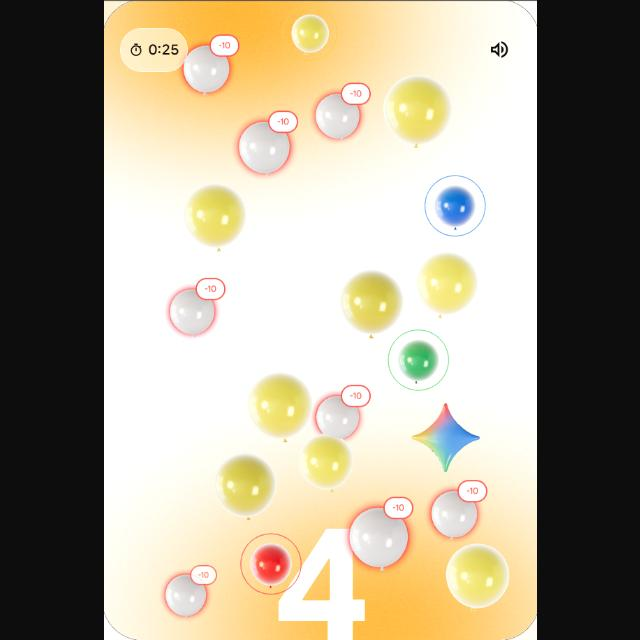hazard: (344, 492, 416, 576), (228, 107, 306, 179), (174, 32, 242, 102), (423, 480, 489, 544), (160, 276, 228, 338), (309, 77, 371, 143), (153, 564, 219, 624), (311, 381, 369, 441)
safe: (381, 75, 454, 147), (443, 542, 512, 614), (244, 373, 314, 443), (334, 269, 406, 337), (175, 188, 252, 250), (212, 454, 280, 522), (412, 250, 478, 320), (296, 436, 356, 494)
sequence: (418, 175, 490, 239), (385, 328, 451, 394), (236, 534, 304, 596), (279, 8, 343, 64)
